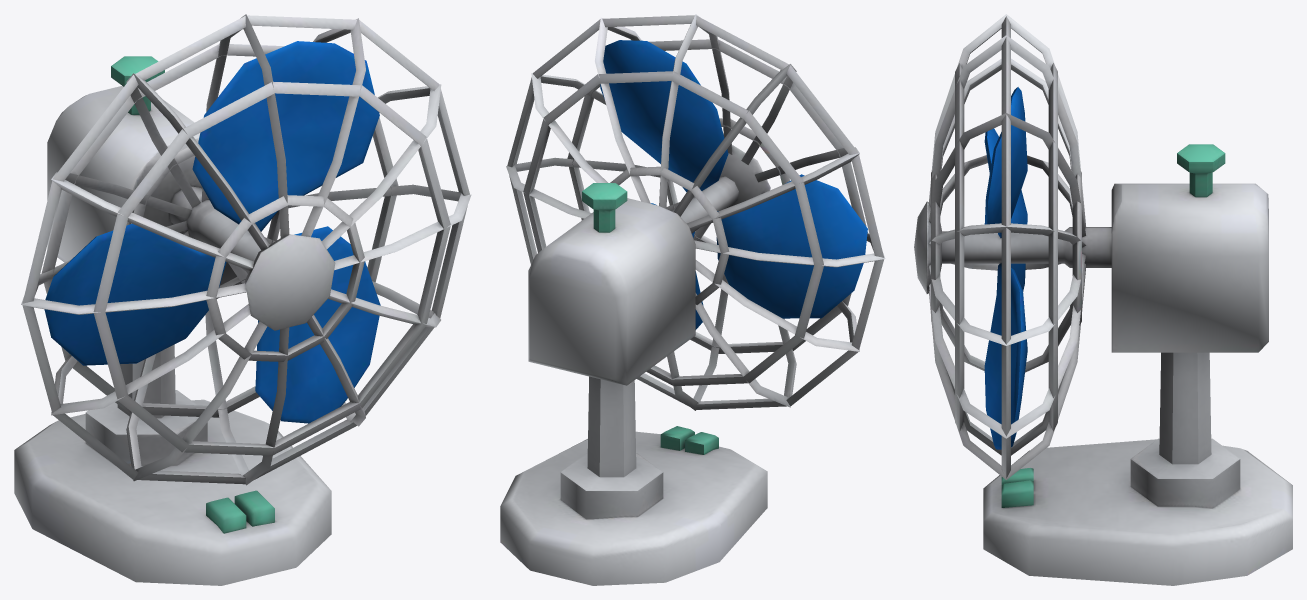
The model's file is DeskFan.fbx.
3 views of the same model, side by side, from view 1: azimuth 30°, elevation 25°; view 2: azimuth 150°, elevation 25°; view 3: azimuth 270°, elevation 25° (orthographic). The views are drawn at different scales.
Parts seen in each view (by area): view 1: DeskFan; view 2: DeskFan; view 3: DeskFan.
Boxes of the visible parts, left/top/right/bottom form: DeskFan: left=14, top=14, right=471, bottom=585; DeskFan: left=500, top=14, right=885, bottom=585; DeskFan: left=914, top=14, right=1292, bottom=585.
Bounding box in the file's own units: 43.59 × 35.28 × 51.15.
